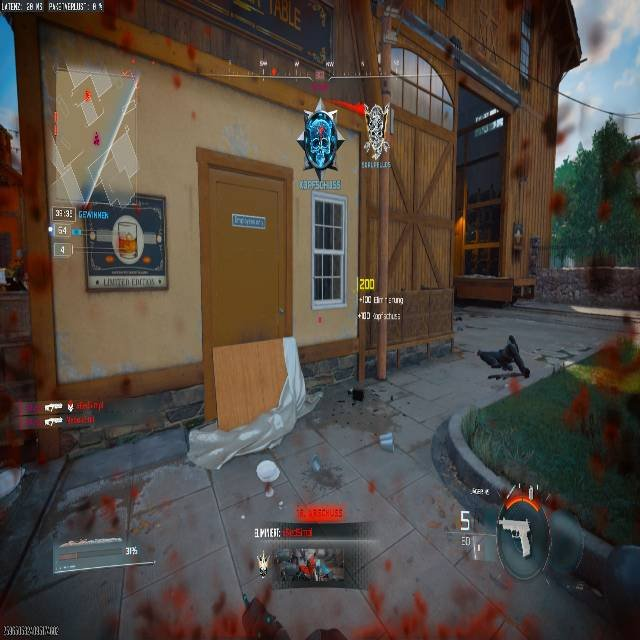player: (297, 101, 343, 178), (477, 334, 530, 379)
